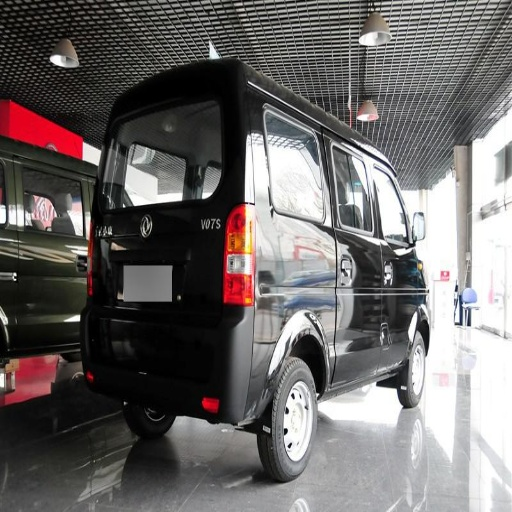back_bumper: (86, 308, 239, 410)
trunk: (124, 208, 374, 414)
